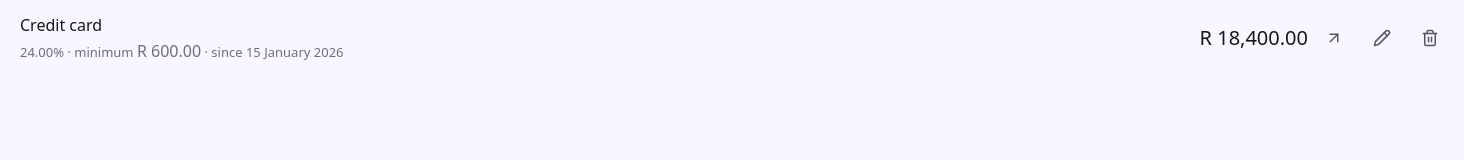
DebtRow › asks before removing a debt
What coordinates should you click on to do the following:
click the button named "Remove Credit card"
I would click on:
 (1430, 38)
Its box is [1408,16,1452,60].
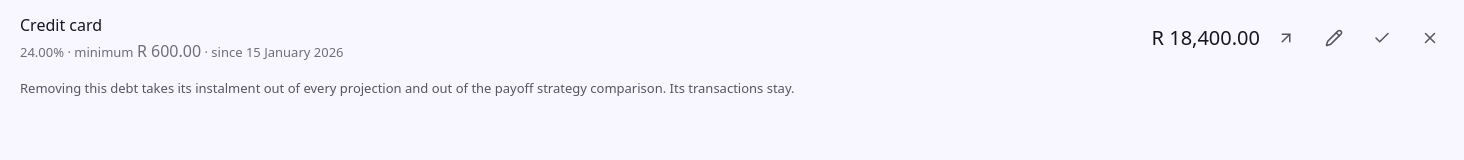
Expected: the text "takes its instalment out of every projection" is shown, [20,79,794,97]
